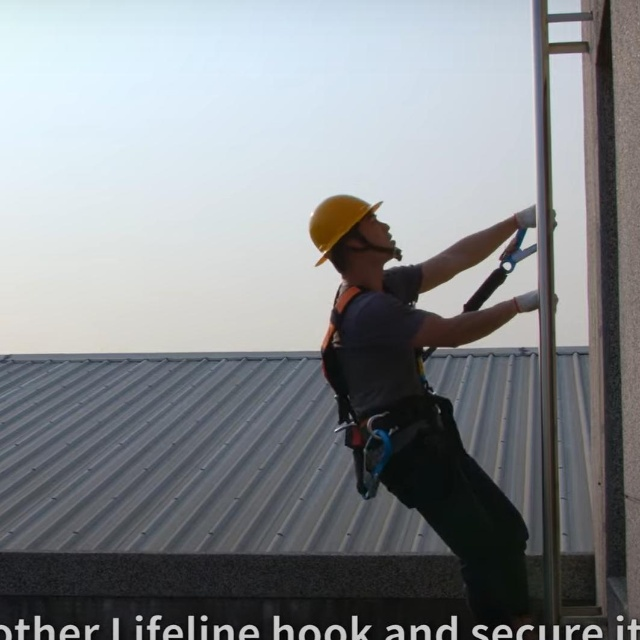Arnes_seguridad: (318, 278, 460, 501)
